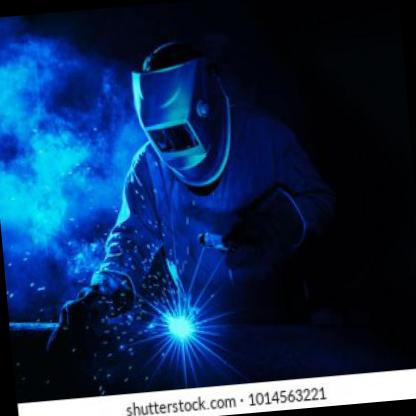Gloves: (214, 186, 312, 267)
